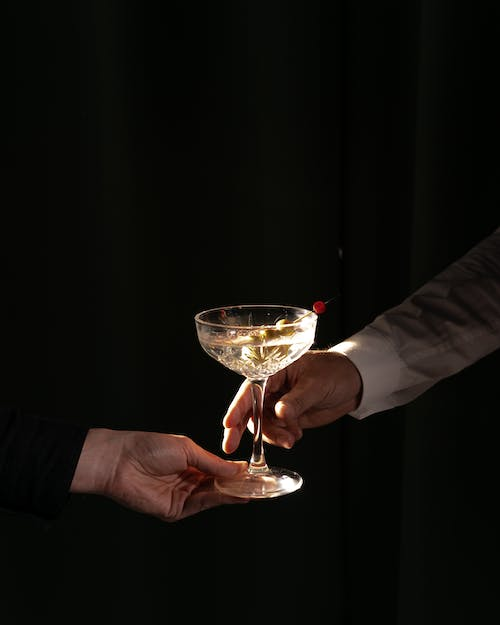alcohol: (191, 300, 319, 498)
